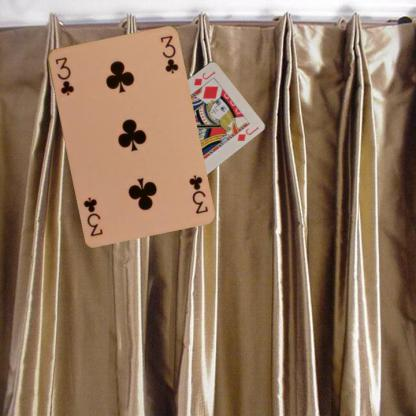3c: (186, 172, 209, 215), (52, 54, 75, 96)
Jd: (191, 68, 217, 87)
